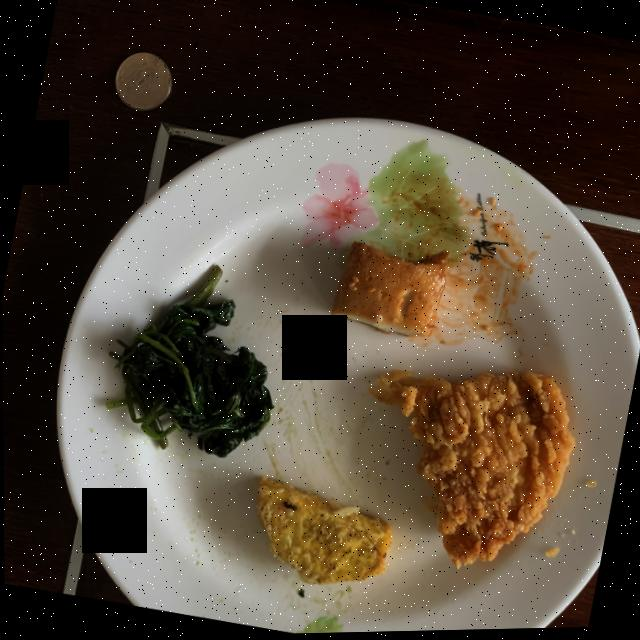coin: (114, 53, 171, 112)
creamy tofu: (330, 243, 449, 339)
fried chicken cutlet: (367, 372, 574, 569)
sweet potato leaves: (105, 267, 272, 459)
